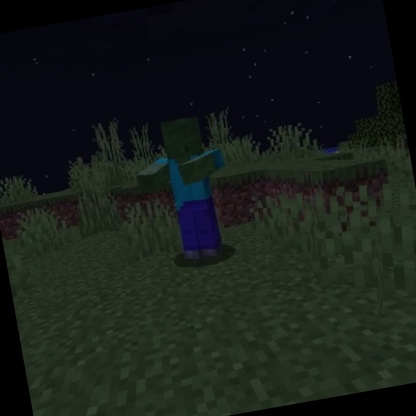zombie: (124, 107, 246, 274)
